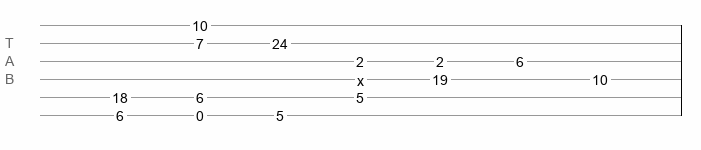0: (196, 108, 204, 118)
10: (192, 18, 208, 28), (592, 72, 608, 82)
18: (112, 90, 128, 100)
19: (432, 72, 448, 82)
2: (356, 54, 364, 64), (436, 54, 444, 64)
24: (272, 36, 288, 46)
5: (276, 108, 284, 118), (356, 90, 364, 100)
6: (116, 108, 124, 118), (196, 90, 204, 100), (516, 54, 524, 64)
7: (196, 36, 204, 46)
x: (357, 73, 364, 81)
